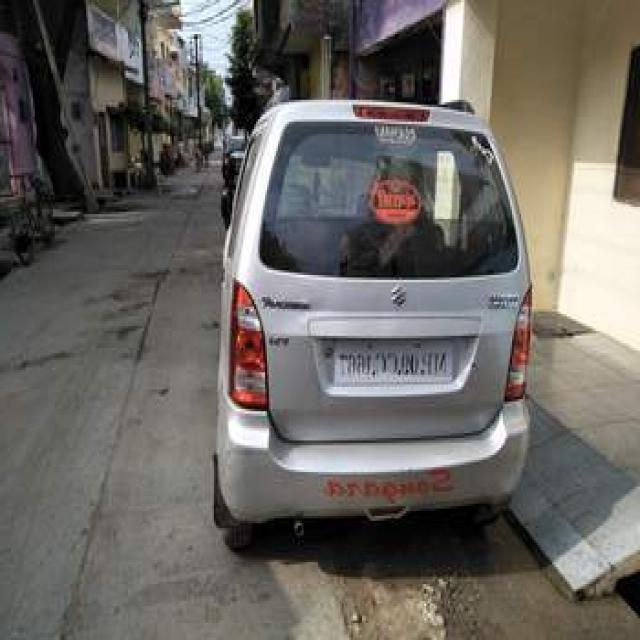number-plate: (303, 338, 474, 402)
